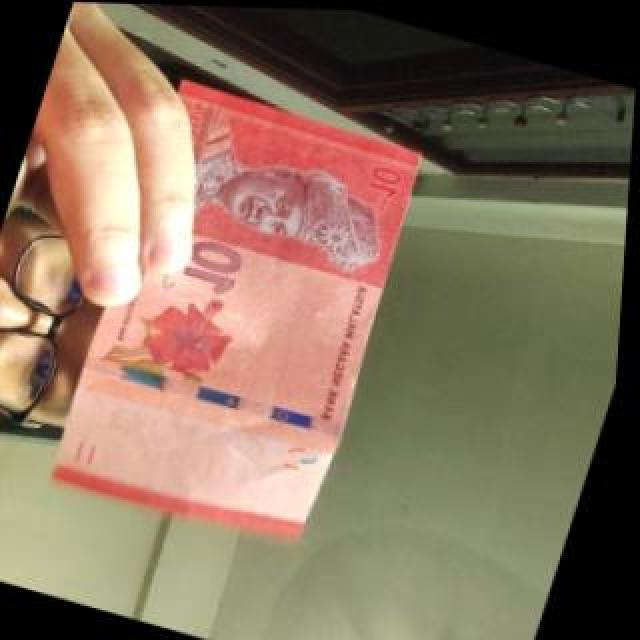10 Ringgit: (42, 74, 435, 557)
